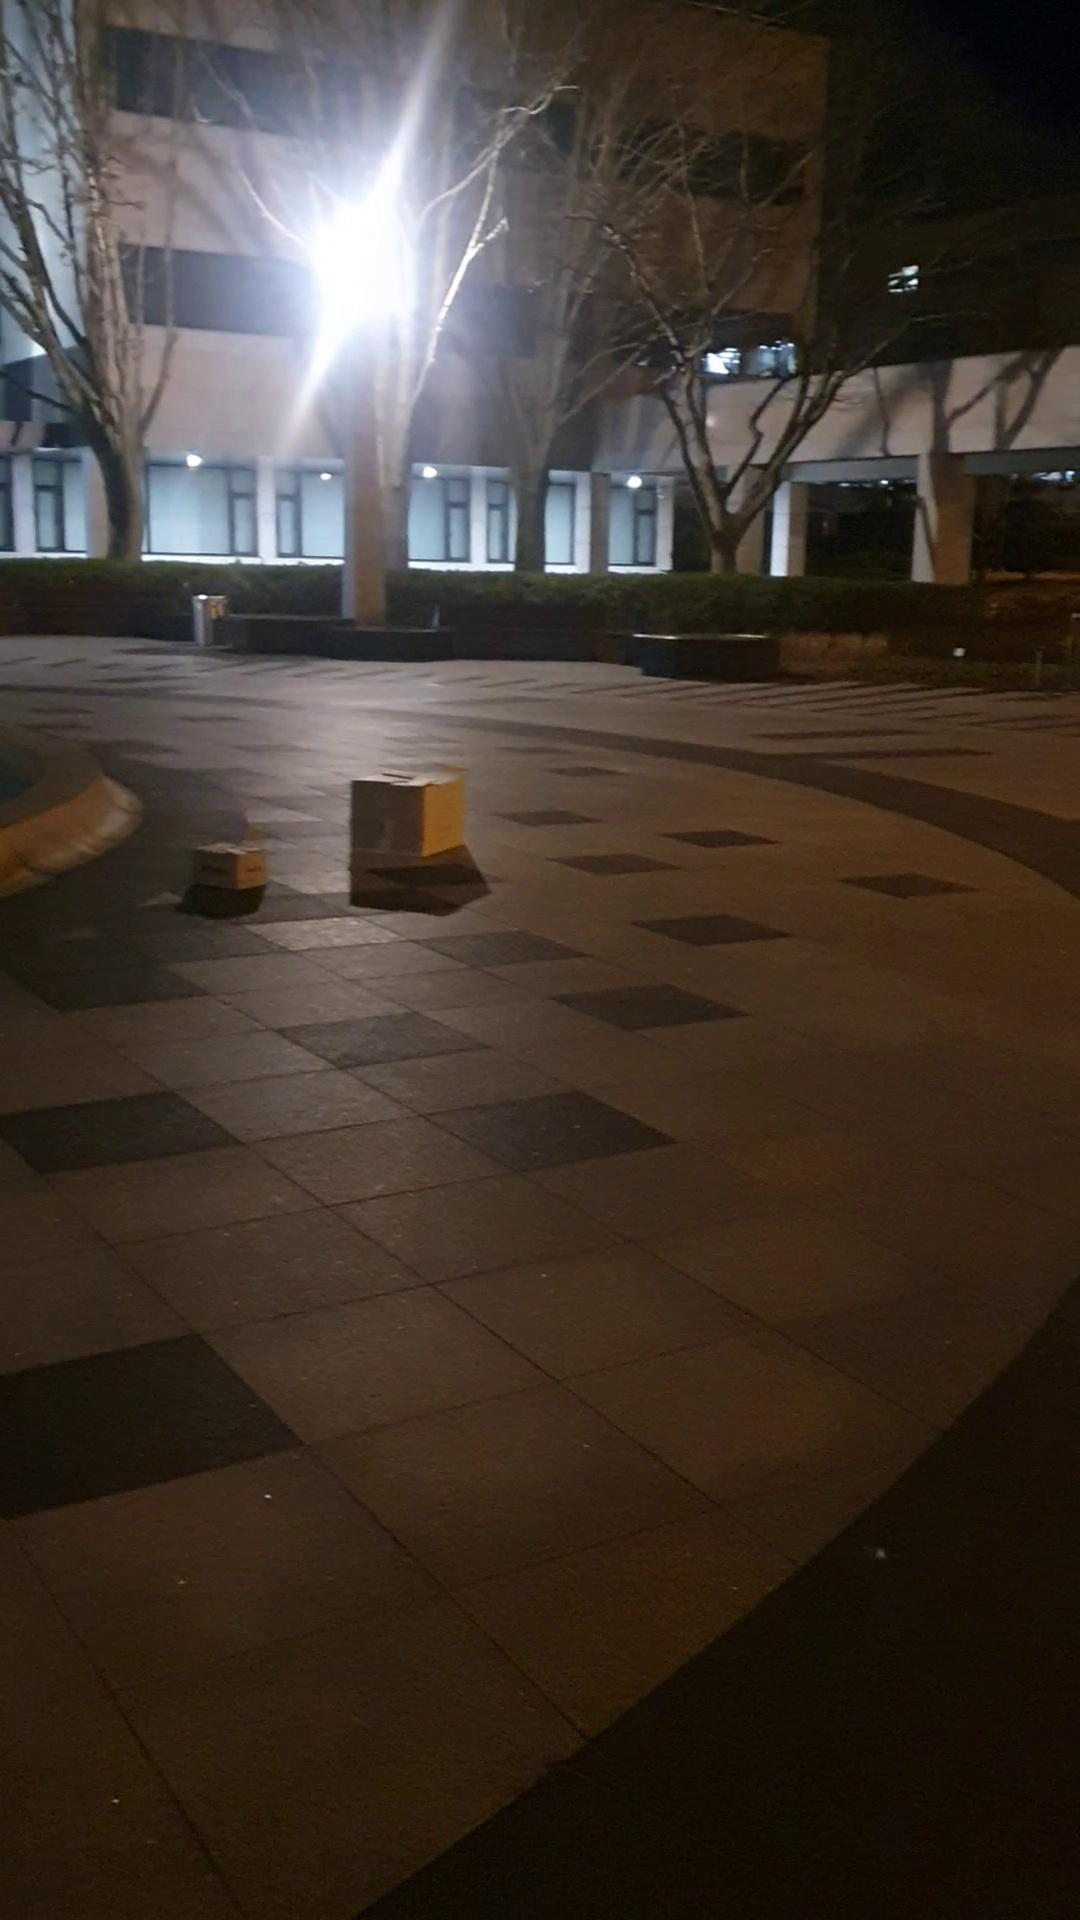Box: (338, 760, 467, 880), (175, 840, 293, 902)
